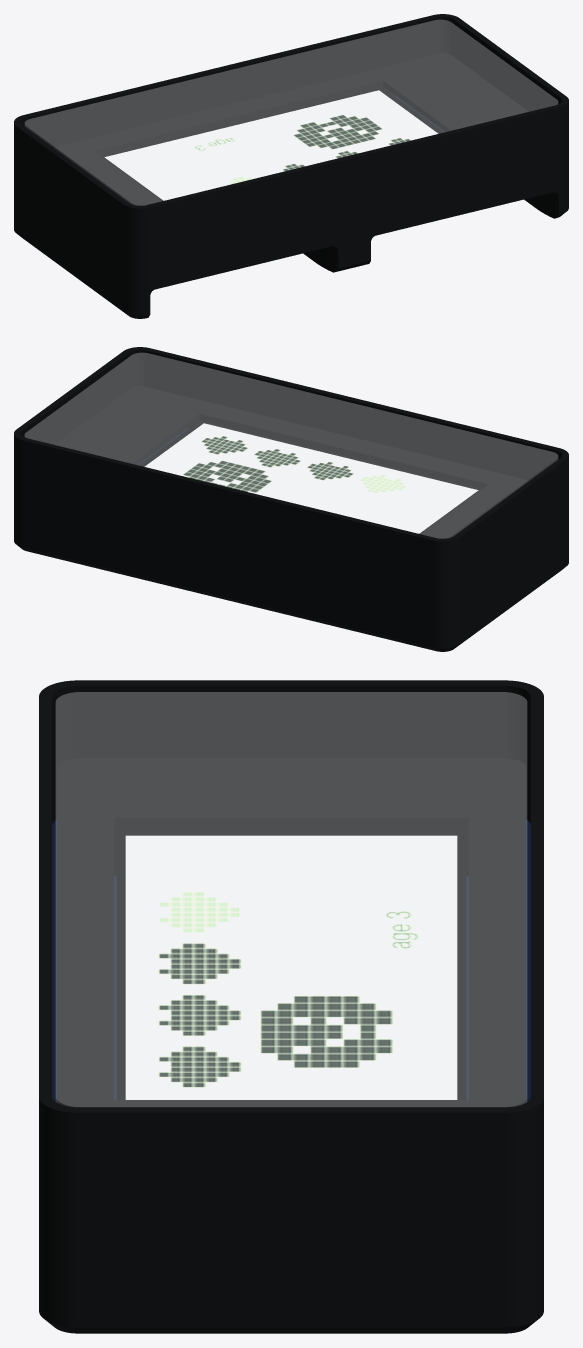
The model's file is screen.glb.
3 views of the same model, one above another, from view 1: azimuth 30°, elevation 25°; view 2: azimuth 150°, elevation 25°; view 3: azimuth 270°, elevation 25° (orthographic). The views are drawn at different scales.
Visible parts, largest first — view 1: black, glass, screen_f0, gloss; view 2: black, glass, screen_f0, gloss; view 3: black, glass, screen_f0, gloss, pcb.
Boxes of the visible parts, x1=… form: black: x1=14, y1=14, x2=568, y2=318; glass: x1=25, y1=20, x2=557, y2=205; screen_f0: x1=104, y1=90, x2=438, y2=200; gloss: x1=101, y1=87, x2=443, y2=201; black: x1=14, y1=347, x2=568, y2=651; glass: x1=25, y1=353, x2=557, y2=538; screen_f0: x1=144, y1=423, x2=478, y2=533; gloss: x1=139, y1=420, x2=481, y2=534; black: x1=39, y1=680, x2=543, y2=1333; glass: x1=56, y1=692, x2=526, y2=1106; screen_f0: x1=125, y1=835, x2=457, y2=1099; gloss: x1=116, y1=830, x2=466, y2=1099; pcb: x1=52, y1=819, x2=530, y2=1102.
Size of what is drawn, in the model's own units: 0.0395 by 0.00964 by 0.0195.
Materials: 7 (1 with a texture image).
